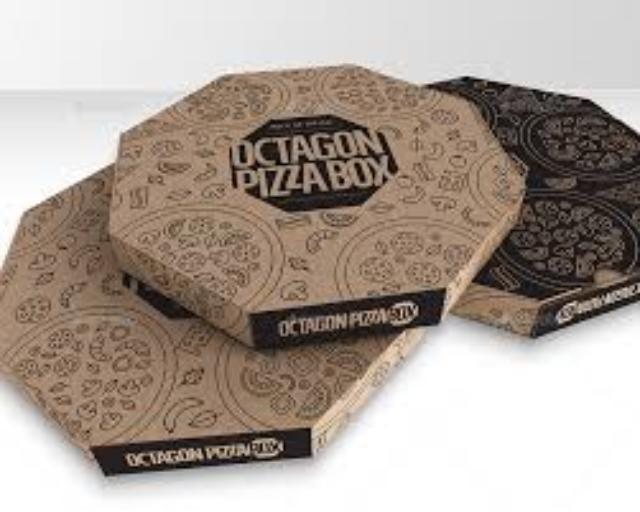cardboard paper: (0, 163, 418, 469), (107, 64, 520, 342), (431, 74, 635, 331)
